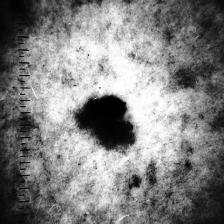Benign Marking or Mole: (74, 91, 138, 150), (85, 96, 125, 122)
